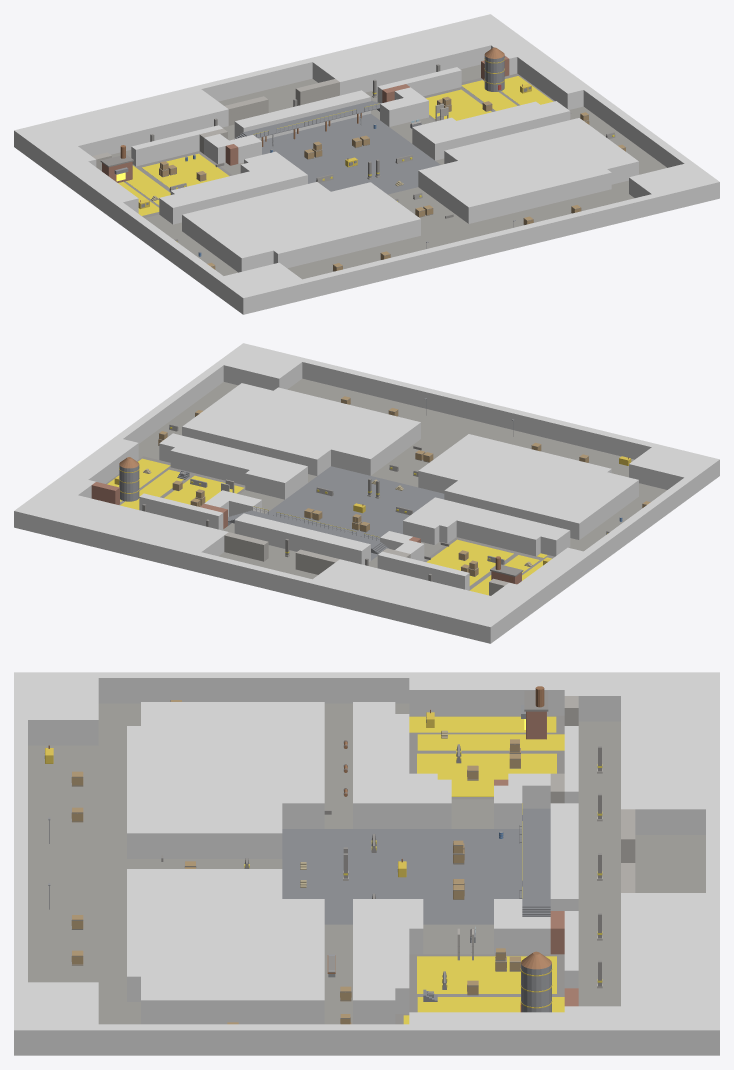
File: foundry.glb
The picture shows the model from 3 angles, top to bottom: view 1: azimuth 30°, elevation 25°; view 2: azimuth 150°, elevation 25°; view 3: azimuth 270°, elevation 25°; orthographic projection. The views are drawn at different scales.
Visible parts, largest first — view 1: wall_5_28-occonly, wall_38_28-occonly, floor_t2_1-col, wall_8_49-occonly, wall_0_1-occonly, wall_37_1-occonly, wall_0_0-occonly, wall_33_31-occonly, wall_0_22-occonly, floor_t0_1-col, wall_59_22-occonly, wall_52_44-occonly (+34 smaller); view 2: wall_0_0-occonly, wall_5_28-occonly, wall_38_28-occonly, wall_8_49-occonly, floor_t2_1-col, wall_0_1-occonly, wall_37_1-occonly, wall_33_31-occonly, wall_0_22-occonly, wall_22_10-occonly, wall_7_22-occonly, wall_43_22-occonly (+33 smaller); view 3: wall_38_28-occonly, wall_5_28-occonly, floor_t2_1-col, wall_37_1-occonly, wall_0_1-occonly, wall_59_22-occonly, floor_t0_4-col, wall_0_22-occonly, floor_t0_1-col, floor_t3_4-col, wall_22_31-occonly, wall_57_11-occonly (+38 smaller).
Part boxes in pixels (bbox=[...]): wall_5_28-occonly: bbox=[182, 182, 376, 272]; wall_38_28-occonly: bbox=[444, 118, 638, 194]; floor_t2_1-col: bbox=[228, 113, 440, 194]; wall_8_49-occonly: bbox=[302, 194, 656, 299]; wall_0_1-occonly: bbox=[18, 89, 228, 169]; wall_37_1-occonly: bbox=[312, 17, 522, 95]; wall_0_0-occonly: bbox=[14, 14, 494, 149]; wall_33_31-occonly: bbox=[418, 161, 508, 223]; wall_0_22-occonly: bbox=[115, 202, 251, 314]; floor_t0_1-col: bbox=[118, 151, 232, 217]; wall_59_22-occonly: bbox=[583, 88, 719, 200]; wall_52_44-occonly: bbox=[629, 164, 711, 213]; wall_0_0-occonly: bbox=[14, 507, 495, 643]; wall_5_28-occonly: bbox=[444, 447, 638, 539]; wall_38_28-occonly: bbox=[182, 383, 376, 475]; wall_8_49-occonly: bbox=[302, 358, 655, 459]; floor_t2_1-col: bbox=[266, 466, 444, 568]; wall_0_1-occonly: bbox=[313, 559, 522, 639]; wall_37_1-occonly: bbox=[19, 487, 228, 556]; wall_33_31-occonly: bbox=[331, 412, 420, 475]; wall_0_22-occonly: bbox=[584, 457, 719, 569]; wall_22_10-occonly: bbox=[234, 513, 370, 564]; wall_7_22-occonly: bbox=[456, 507, 553, 556]; wall_43_22-occonly: bbox=[170, 437, 267, 485]; wall_38_28-occonly: bbox=[141, 899, 324, 1024]; wall_5_28-occonly: bbox=[141, 702, 324, 828]; floor_t2_1-col: bbox=[282, 829, 521, 924]; wall_37_1-occonly: bbox=[621, 893, 705, 1055]; wall_0_1-occonly: bbox=[621, 672, 705, 834]; wall_59_22-occonly: bbox=[14, 1024, 409, 1055]; floor_t0_4-col: bbox=[28, 727, 126, 858]; wall_0_22-occonly: bbox=[14, 672, 409, 703]; floor_t0_1-col: bbox=[409, 715, 564, 799]; floor_t3_4-col: bbox=[28, 894, 126, 1001]; wall_22_31-occonly: bbox=[127, 803, 282, 858]; wall_57_11-occonly: bbox=[409, 1012, 564, 1055].
Size of what is drawn, in the model's own units: 120 by 10.05 by 100.
